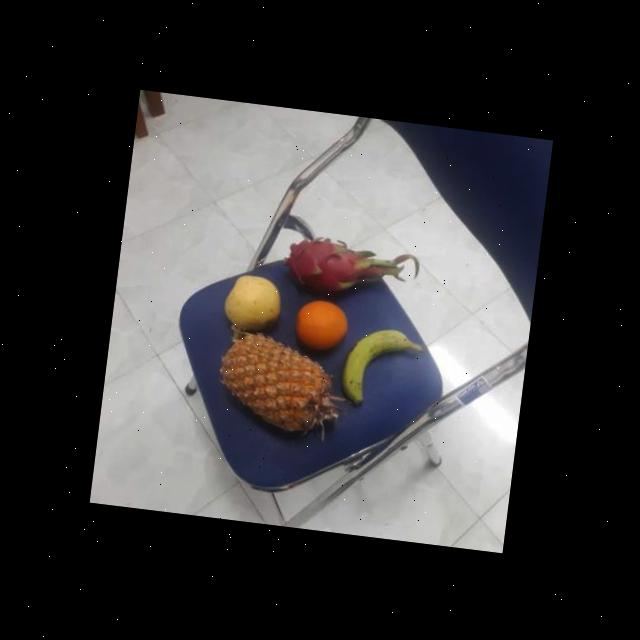banana: (336, 321, 415, 408)
orange: (290, 294, 352, 354)
pear: (220, 271, 281, 332)
pineapple: (218, 331, 338, 434)
pitaya: (282, 232, 382, 302)
